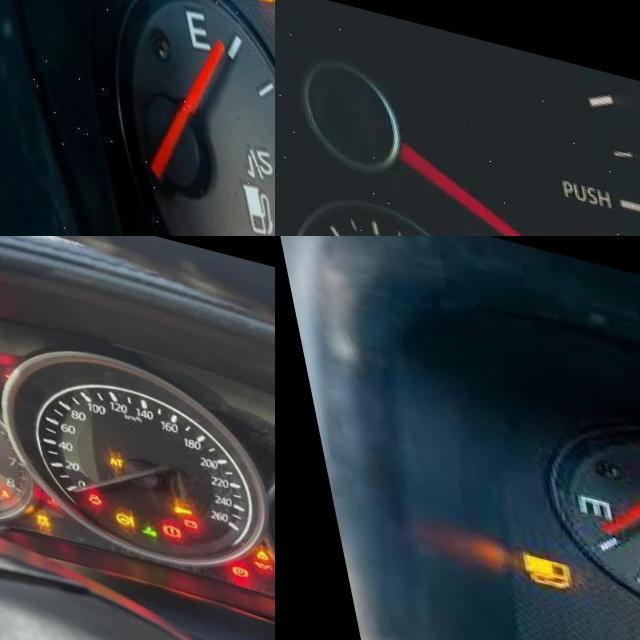Electronic Power Steering: (101, 498, 122, 515)
High Engine Coolant Temperature: (33, 486, 46, 497)
